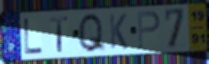7: (164, 8, 187, 51)
K: (108, 12, 129, 51)
L: (23, 17, 45, 56)
P: (136, 10, 162, 51)
Q: (77, 12, 108, 54)
T: (49, 15, 70, 54)
